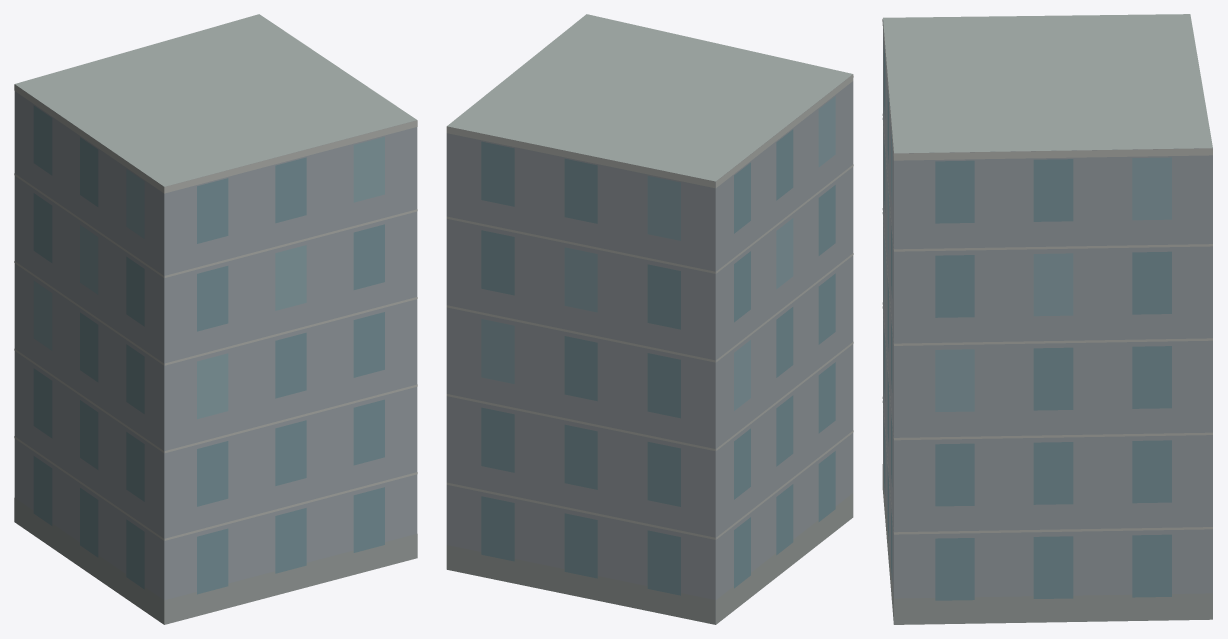
File: survey-upis-32968712.glb
3 views of the same model, side by side, from view 1: azimuth 30°, elevation 25°; view 2: azimuth 150°, elevation 25°; view 3: azimuth 270°, elevation 25° (orthographic). The views are drawn at different scales.
Parts seen in each view (by area): view 1: survey-upis-32968712.tmp; view 2: survey-upis-32968712.tmp; view 3: survey-upis-32968712.tmp.
Boxes of the visible parts, x1,y1,x2,y2 form: survey-upis-32968712.tmp: (14, 14, 417, 624); survey-upis-32968712.tmp: (446, 14, 853, 624); survey-upis-32968712.tmp: (882, 14, 1212, 624).
Size of the model in its own units: 10.04 by 15.8 by 10.05.
